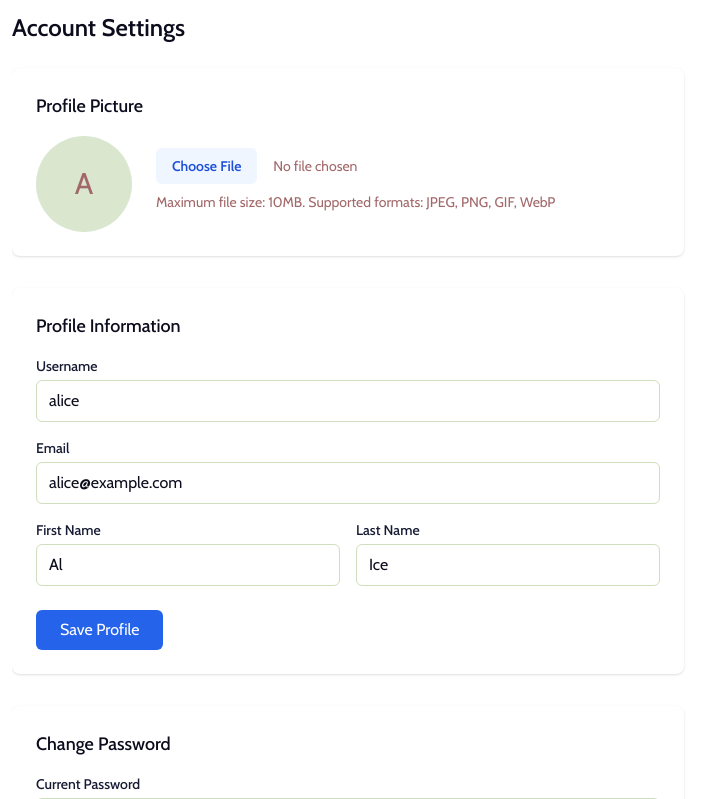
Test: UserSettings › reports "no changes" when the profile is unchanged
The image size is (701, 799).
Check: the field showing "alice" below "Username" is shown, box [36,380,660,422]
Click the button "Save Profile".
click(100, 630)  # box [36,610,163,650]
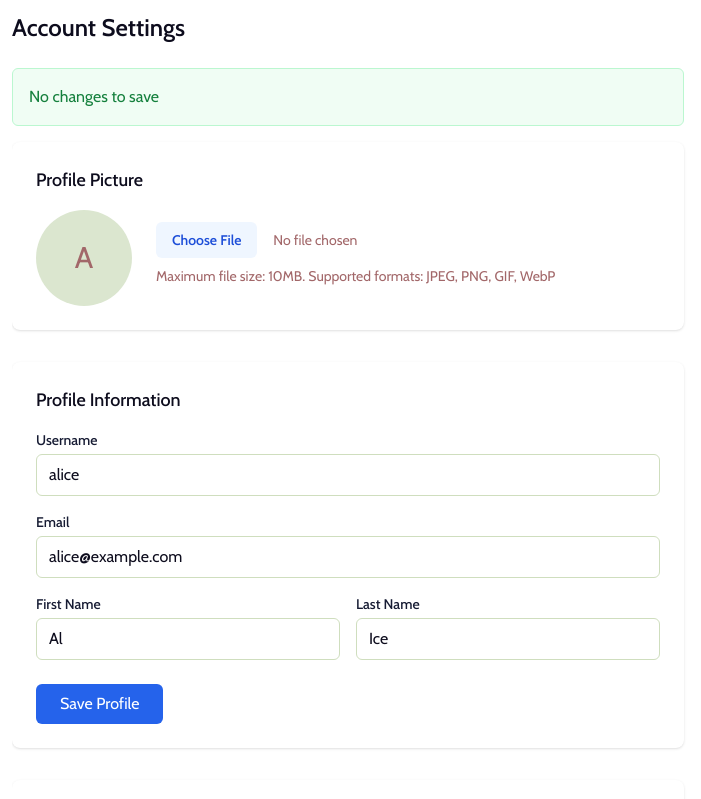
Check: the text "No changes to save" is shown, box [12,68,684,126]
